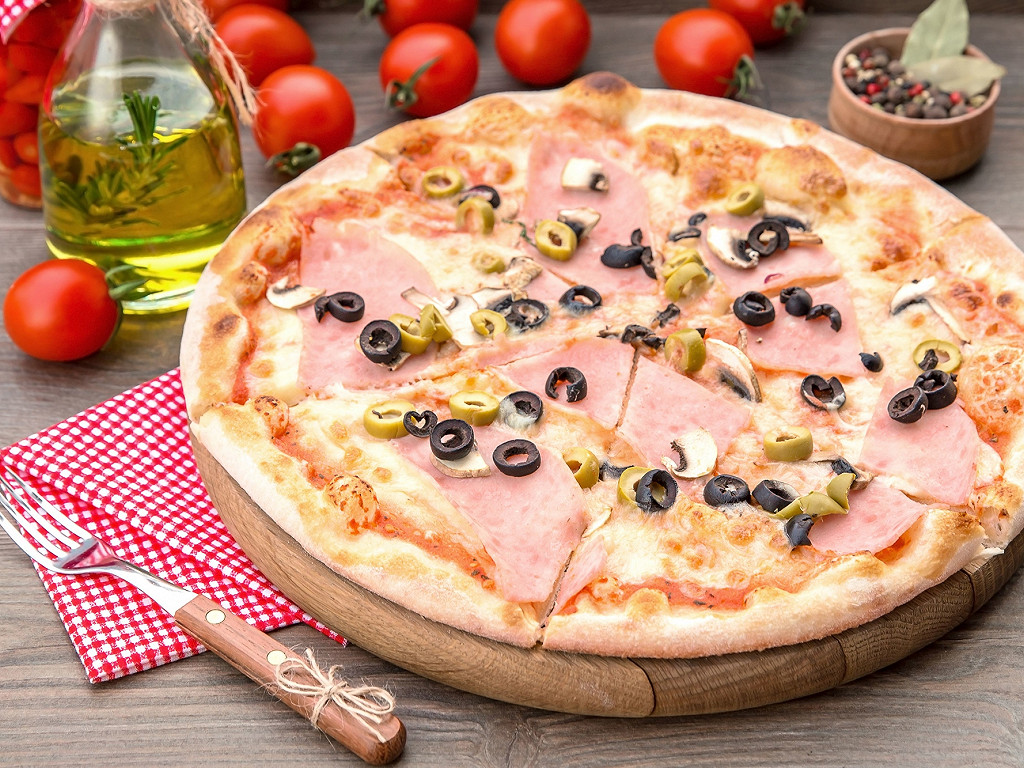Ham: (359, 401, 590, 611), (299, 220, 456, 384), (523, 129, 664, 296), (626, 360, 735, 515), (767, 461, 931, 558), (495, 328, 633, 433), (857, 384, 968, 513), (696, 195, 843, 292), (740, 291, 874, 378), (550, 534, 611, 604)
Olives: (801, 472, 857, 516), (614, 467, 668, 512), (360, 398, 419, 437), (427, 416, 476, 462), (662, 328, 707, 378), (799, 373, 850, 416), (909, 371, 956, 415), (494, 435, 543, 476), (384, 306, 424, 356), (360, 319, 401, 367), (416, 161, 466, 200), (882, 388, 929, 429), (448, 388, 499, 424), (754, 472, 796, 515), (744, 217, 790, 256), (732, 289, 778, 328), (533, 218, 575, 260), (914, 335, 960, 371), (452, 200, 495, 238), (601, 234, 647, 269), (775, 280, 818, 317), (640, 472, 680, 511), (723, 184, 768, 217), (623, 317, 664, 353), (557, 451, 601, 484), (317, 292, 365, 321), (765, 431, 808, 462), (562, 278, 597, 316), (501, 398, 543, 429), (708, 473, 747, 506), (419, 306, 451, 345), (469, 306, 504, 341), (547, 367, 584, 397), (807, 305, 845, 334), (458, 186, 499, 209), (785, 518, 808, 551), (406, 412, 434, 438), (857, 348, 885, 373), (600, 461, 633, 479)
Pizza: (174, 82, 1024, 658), (782, 717, 792, 723)
